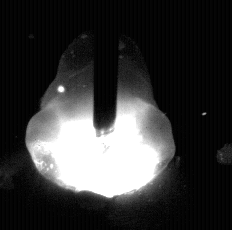arame: (94, 0, 118, 136)
poca: (25, 0, 173, 230)
